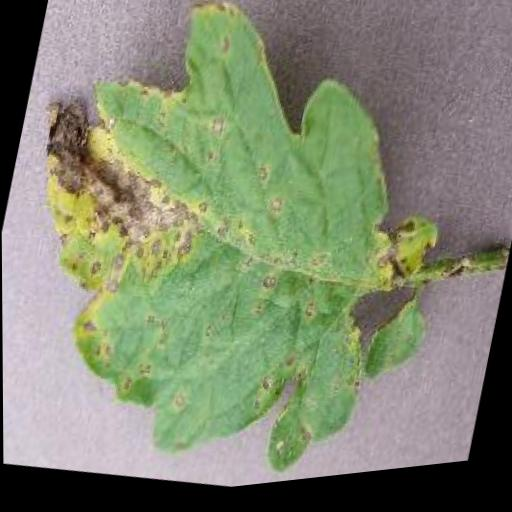Septoria: (0, 0, 493, 512)
